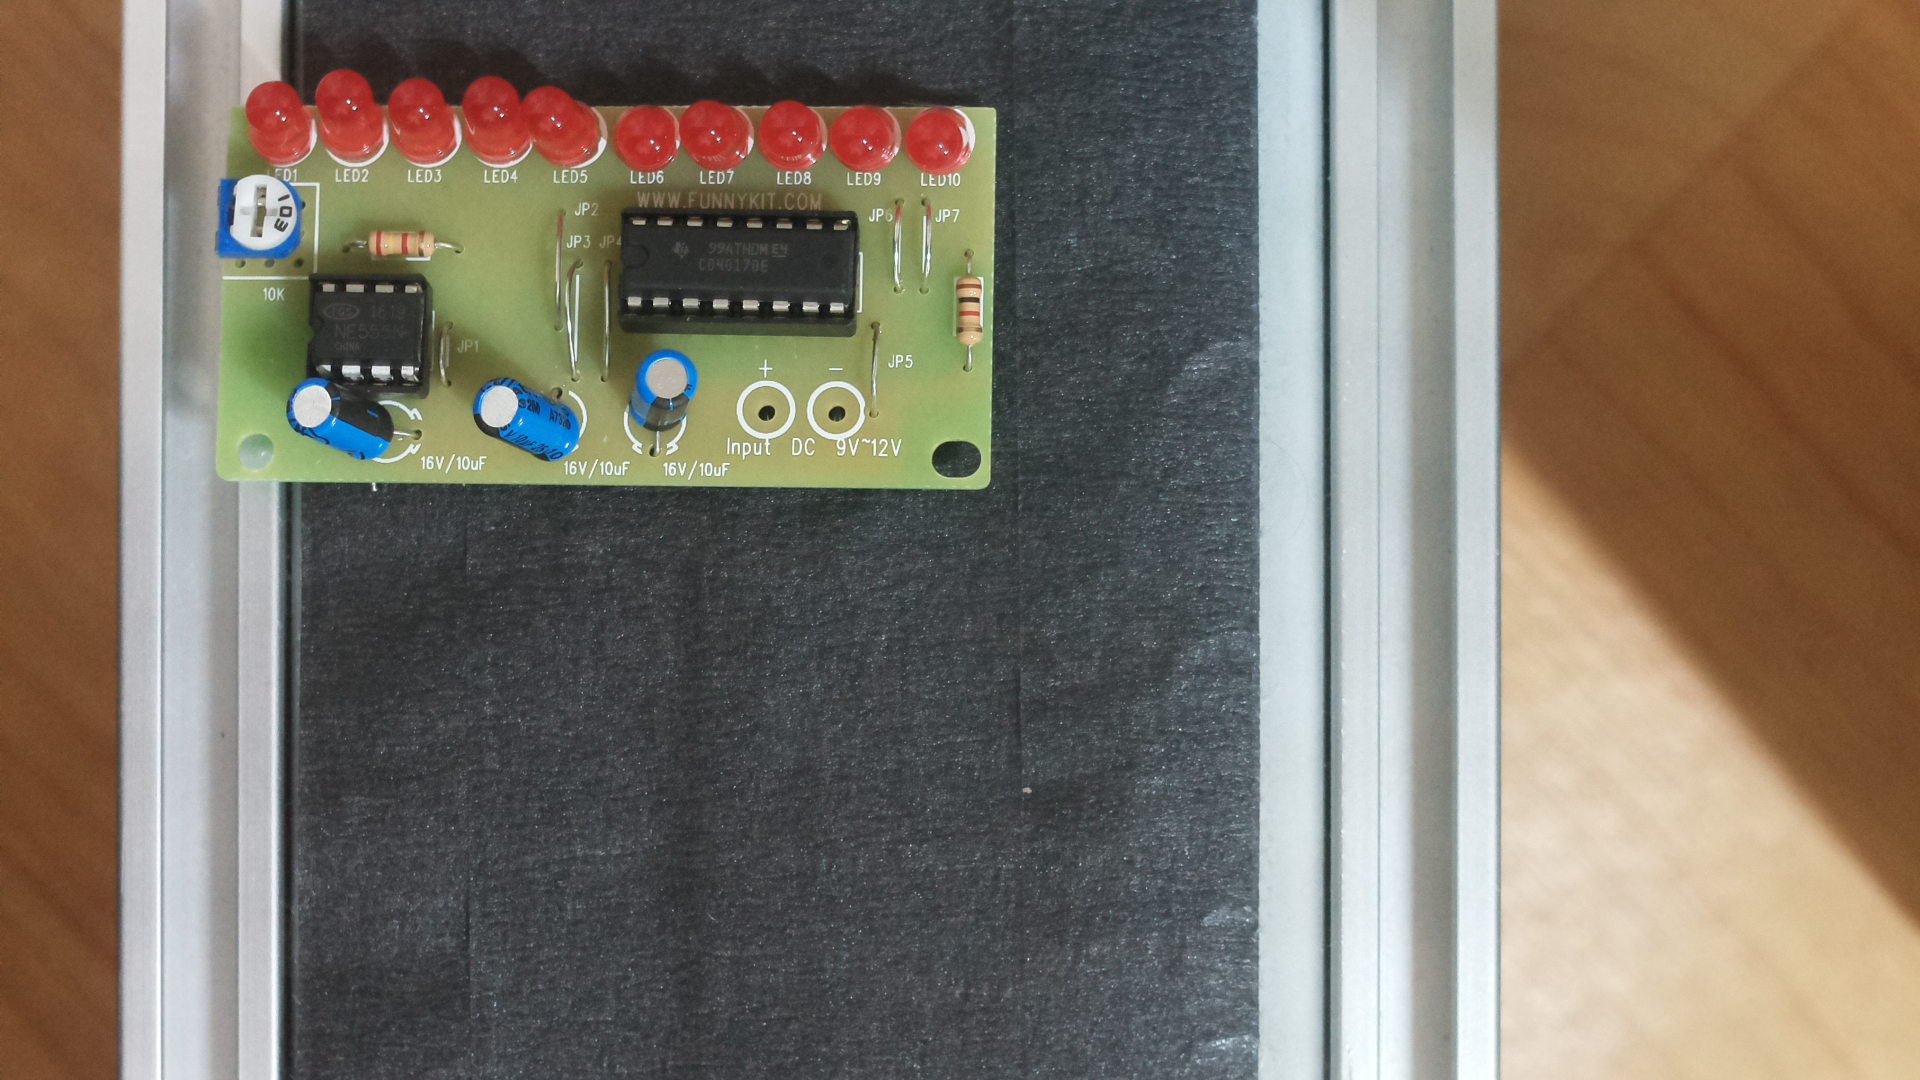B_Normal: (203, 63, 1018, 527)
